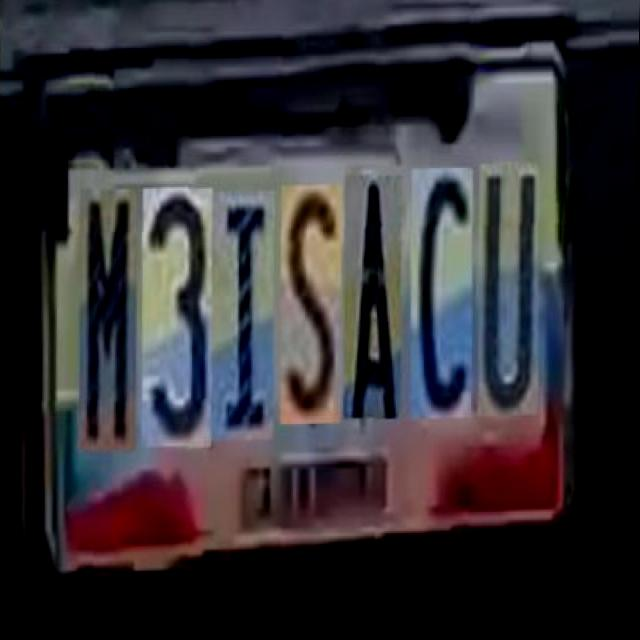3: (137, 186, 215, 448)
a: (340, 172, 405, 417)
c: (405, 164, 475, 417)
i: (206, 190, 277, 439)
m: (74, 187, 141, 451)
s: (275, 182, 345, 422)
u: (472, 158, 542, 412)
